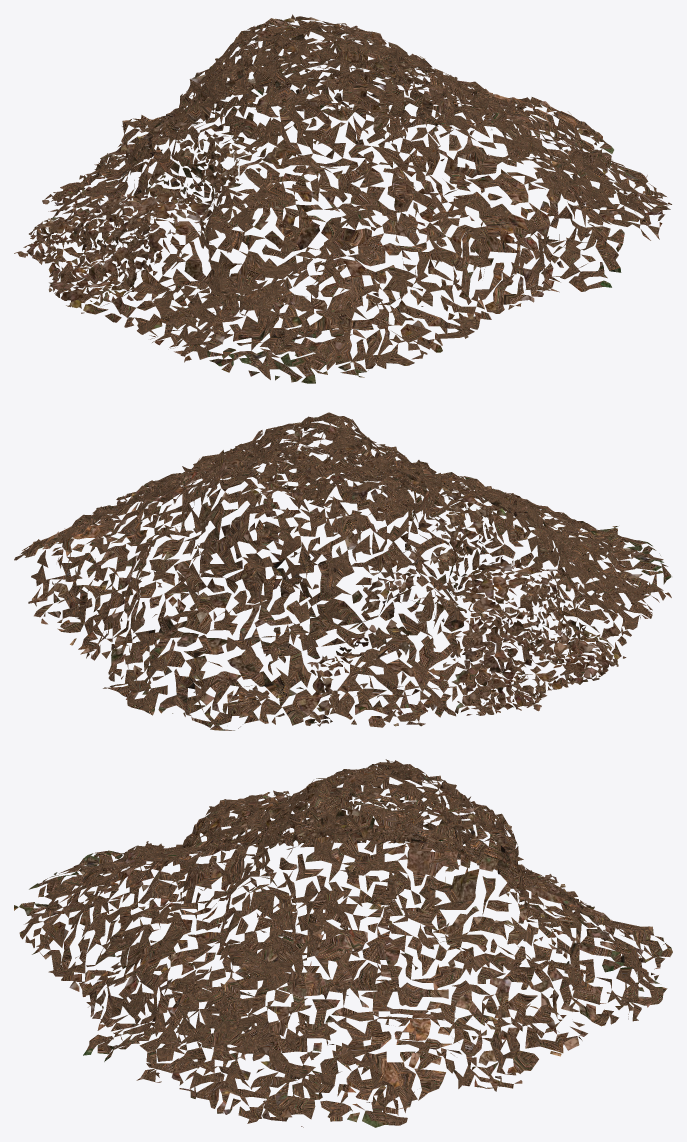
The model's file is leaf_pile.glb.
3 renders of one model, top to bottom at view 1: azimuth 30°, elevation 25°; view 2: azimuth 150°, elevation 25°; view 3: azimuth 270°, elevation 25°, orthographic. The views are drawn at different scales.
Visible parts, largest first — view 1: Model_material2_0, Model_material0_0, Model_material1_0; view 2: Model_material0_0, Model_material1_0, Model_material2_0; view 3: Model_material2_0, Model_material0_0, Model_material1_0.
Part boxes in pixels (<box>): Model_material2_0: <box>27,14,671,382</box>; Model_material0_0: <box>14,16,668,383</box>; Model_material1_0: <box>23,18,666,377</box>; Model_material0_0: <box>21,416,671,730</box>; Model_material1_0: <box>20,419,671,727</box>; Model_material2_0: <box>14,412,671,726</box>; Model_material2_0: <box>19,760,659,1127</box>; Model_material0_0: <box>19,759,672,1123</box>; Model_material1_0: <box>14,764,665,1121</box>.
Bounding box in the file's own units: 3.1 × 1 × 2.96.
Materials: 3 (3 with a texture image).
